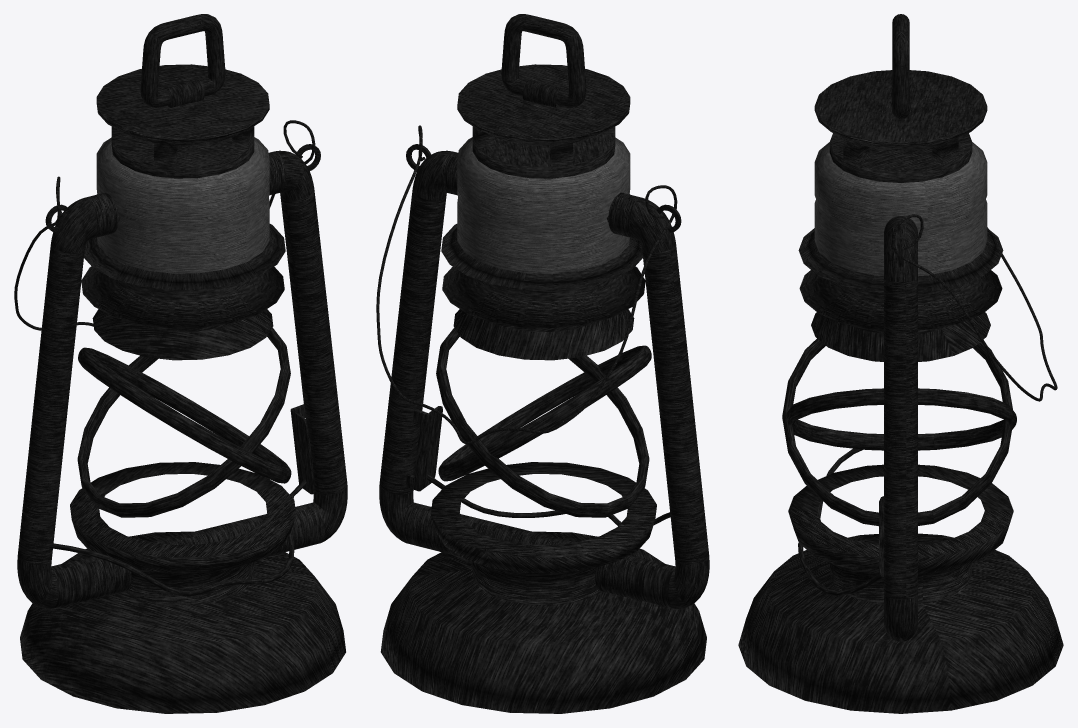
3 renders of one model, left to right at view 1: azimuth 30°, elevation 25°; view 2: azimuth 150°, elevation 25°; view 3: azimuth 270°, elevation 25°, orthographic.
Visible parts, largest first — view 1: Lantern Body1, Top_Part Lantern; view 2: Lantern Body1, Top_Part Lantern; view 3: Lantern Body1, Top_Part Lantern.
Part boxes in pixels (x1,y1,x2,y2): Lantern Body1: (14, 14, 347, 713); Top_Part Lantern: (96, 137, 269, 273); Lantern Body1: (376, 14, 709, 713); Top_Part Lantern: (457, 137, 630, 273); Lantern Body1: (738, 14, 1063, 713); Top_Part Lantern: (814, 142, 987, 276).
Size of the model in its own units: 0.0432 by 0.0793 by 0.0377.
Materials: 2 (2 with a texture image).
